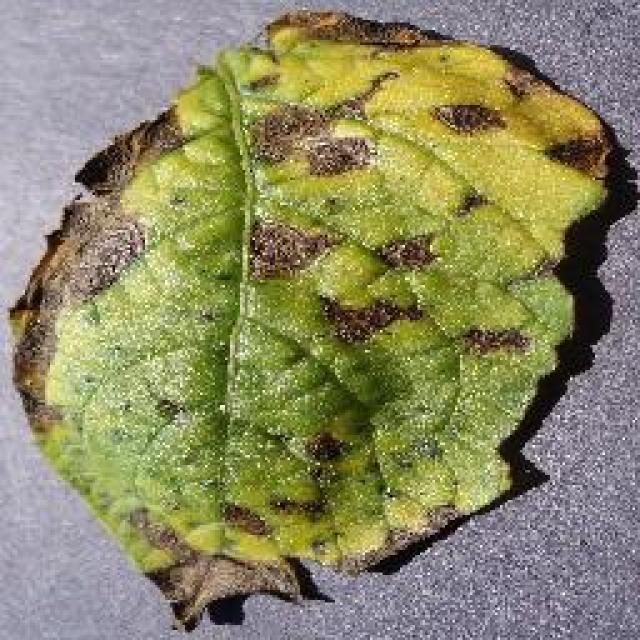Potato___Early_blight: (1, 10, 618, 633)
